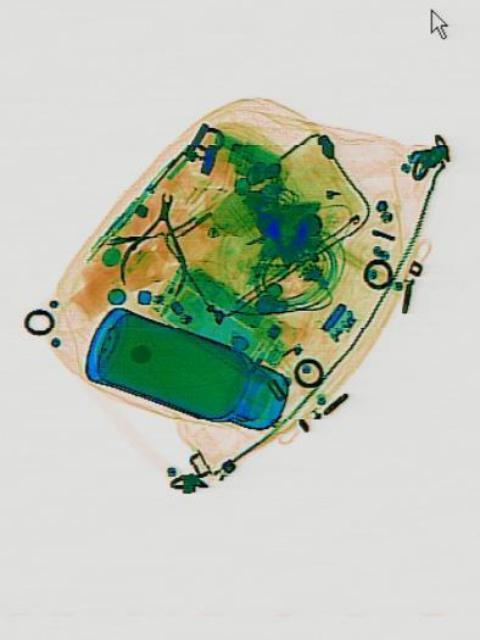Pliers: (116, 182, 197, 298)
